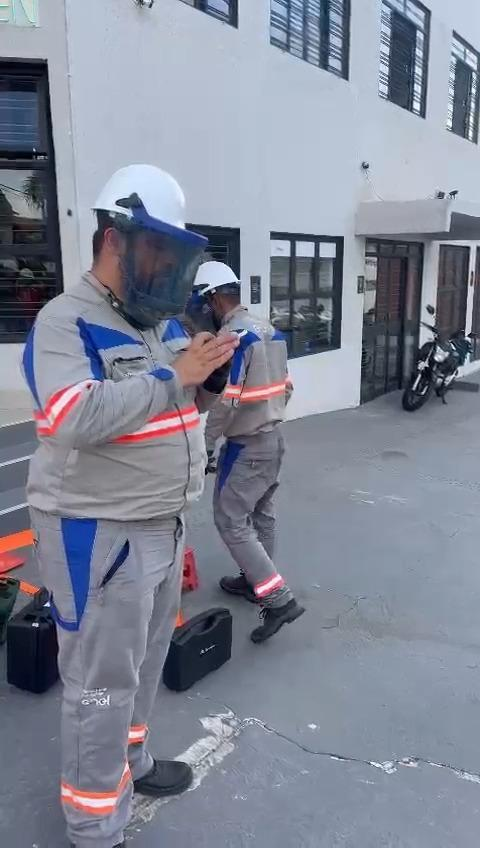Helmet: (85, 152, 203, 307), (195, 262, 249, 315)
No gloves: (173, 326, 237, 394)
